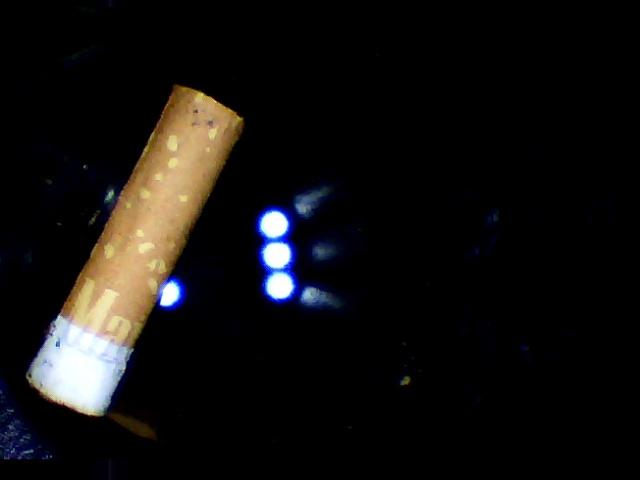megot: (6, 66, 269, 426)
